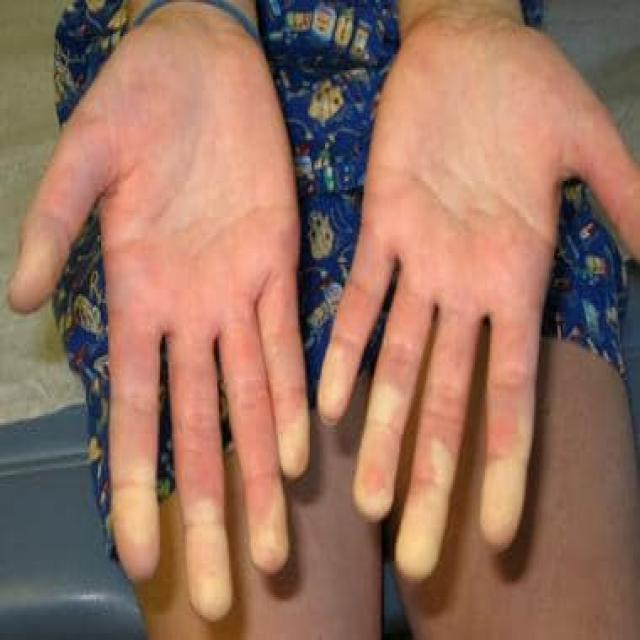raynauds: (172, 470, 245, 620), (394, 441, 463, 583), (108, 394, 158, 581), (479, 395, 534, 554), (354, 388, 413, 514), (237, 456, 291, 586), (315, 342, 355, 426), (276, 415, 315, 485)
